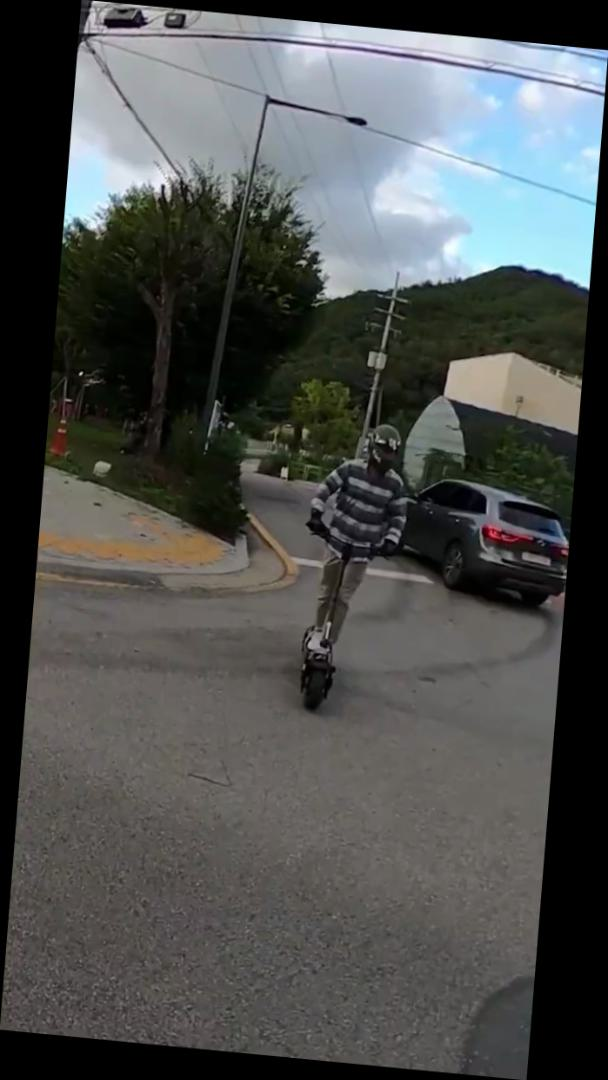helmet: (275, 415, 418, 723)
